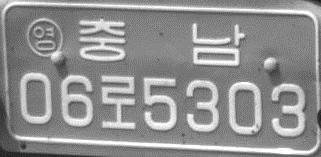0: (227, 79, 263, 136), (18, 71, 51, 126)
3: (270, 81, 306, 138), (184, 78, 220, 133)
5: (142, 77, 178, 131)
6: (60, 74, 93, 127)
로: (99, 73, 137, 130)
영: (25, 15, 63, 58)
충남_D: (78, 17, 245, 67)
